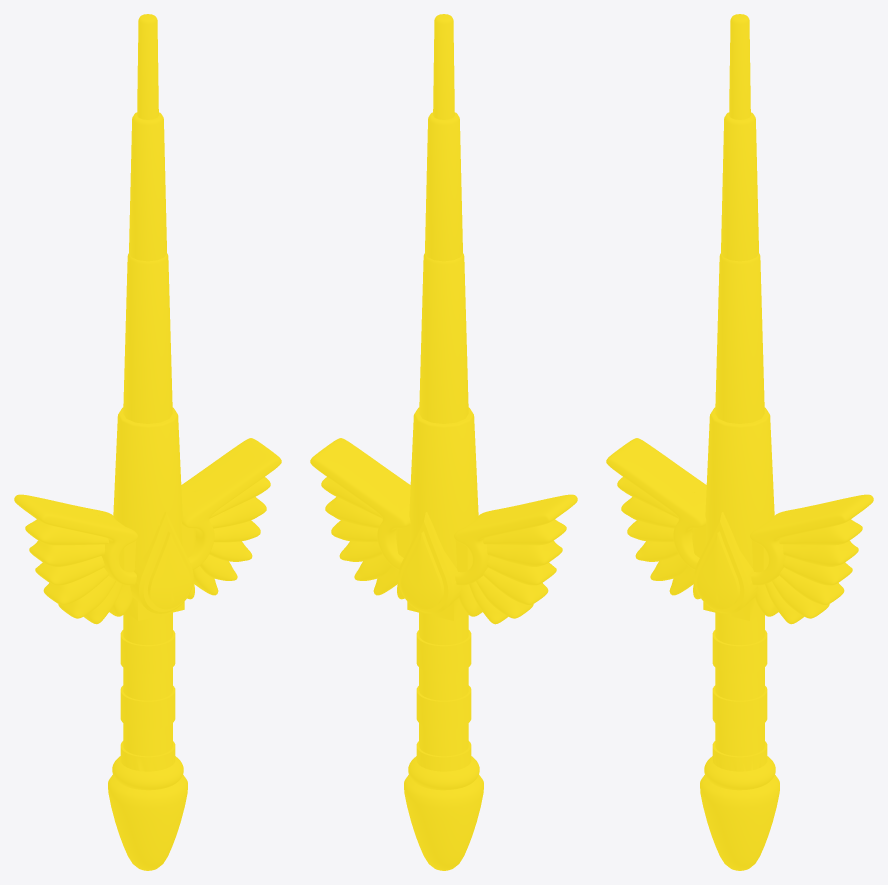
Rendered from SwordA_02.fbx.
3 views of the same model, side by side, from view 1: azimuth 30°, elevation 25°; view 2: azimuth 150°, elevation 25°; view 3: azimuth 330°, elevation 25° (orthographic).
Visible parts, largest first — view 1: sword; view 2: sword; view 3: sword.
Boxes of the visible parts, bbox=[...] form: sword: bbox=[14, 14, 281, 870]; sword: bbox=[310, 14, 577, 870]; sword: bbox=[606, 14, 873, 870].
Bounding box in the file's own units: 71.89 × 242 × 24.31.
